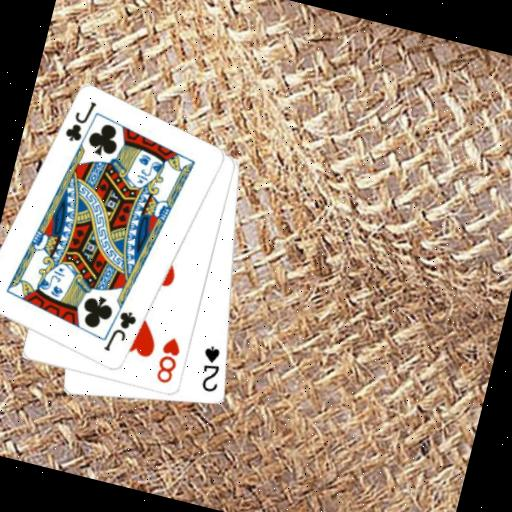2S: (192, 341, 229, 396)
8H: (152, 333, 186, 387)
JC: (100, 305, 140, 359), (60, 94, 100, 148)
